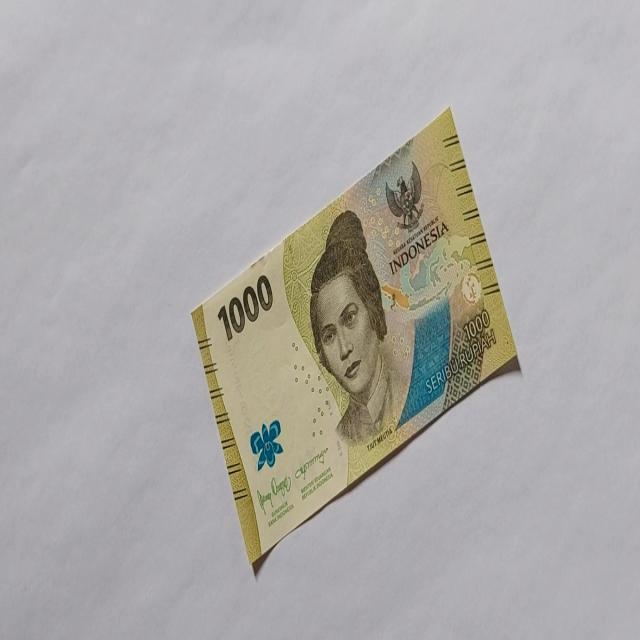seribu rupiah kertas: (189, 105, 521, 567)
